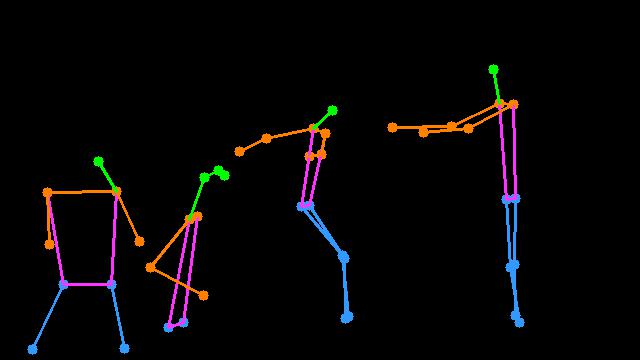normal: (382, 52, 559, 338)
